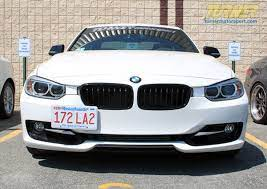number_plates: (53, 105, 98, 130)
